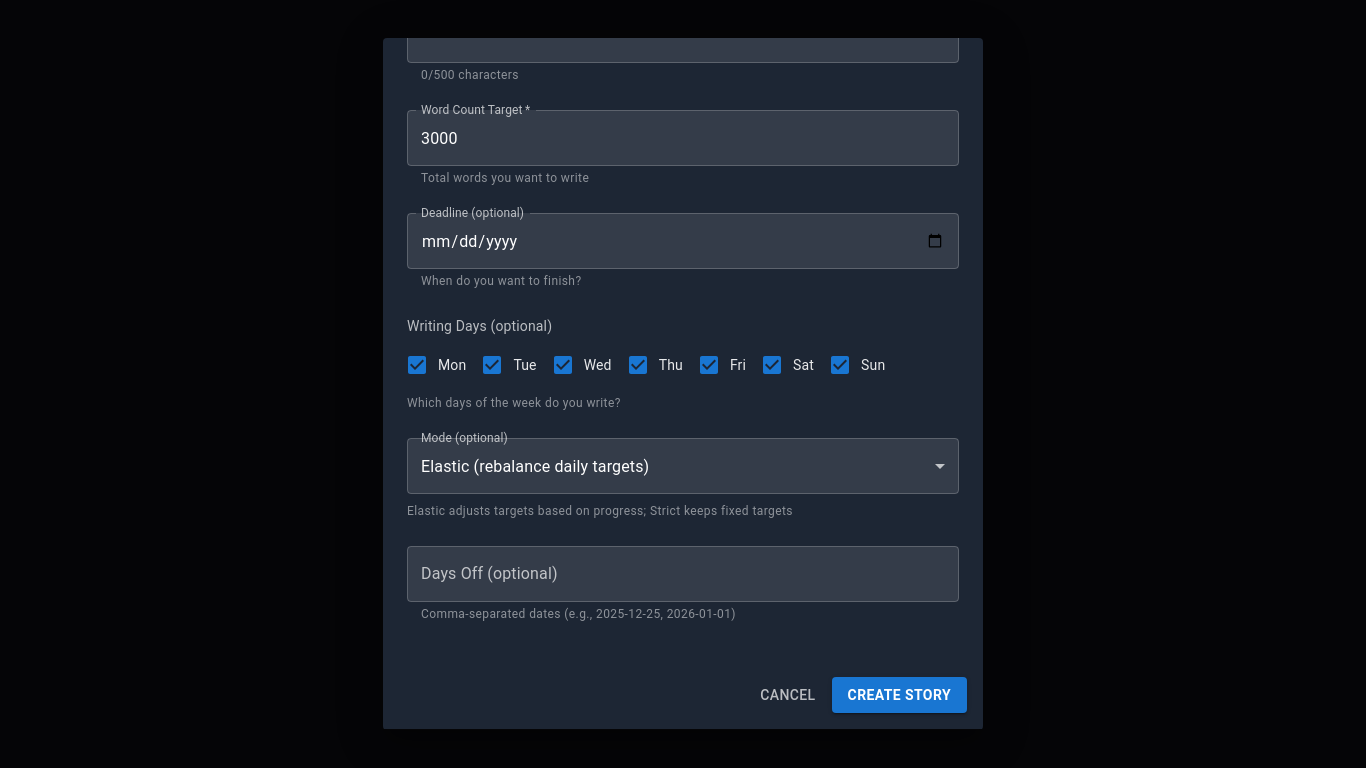
Test: NewStoryModal › allows selecting goal mode
(page scrolled)
Click the dropdown "Elastic (rebalance daily targets)" at (535, 466), box [421,456,649,476]
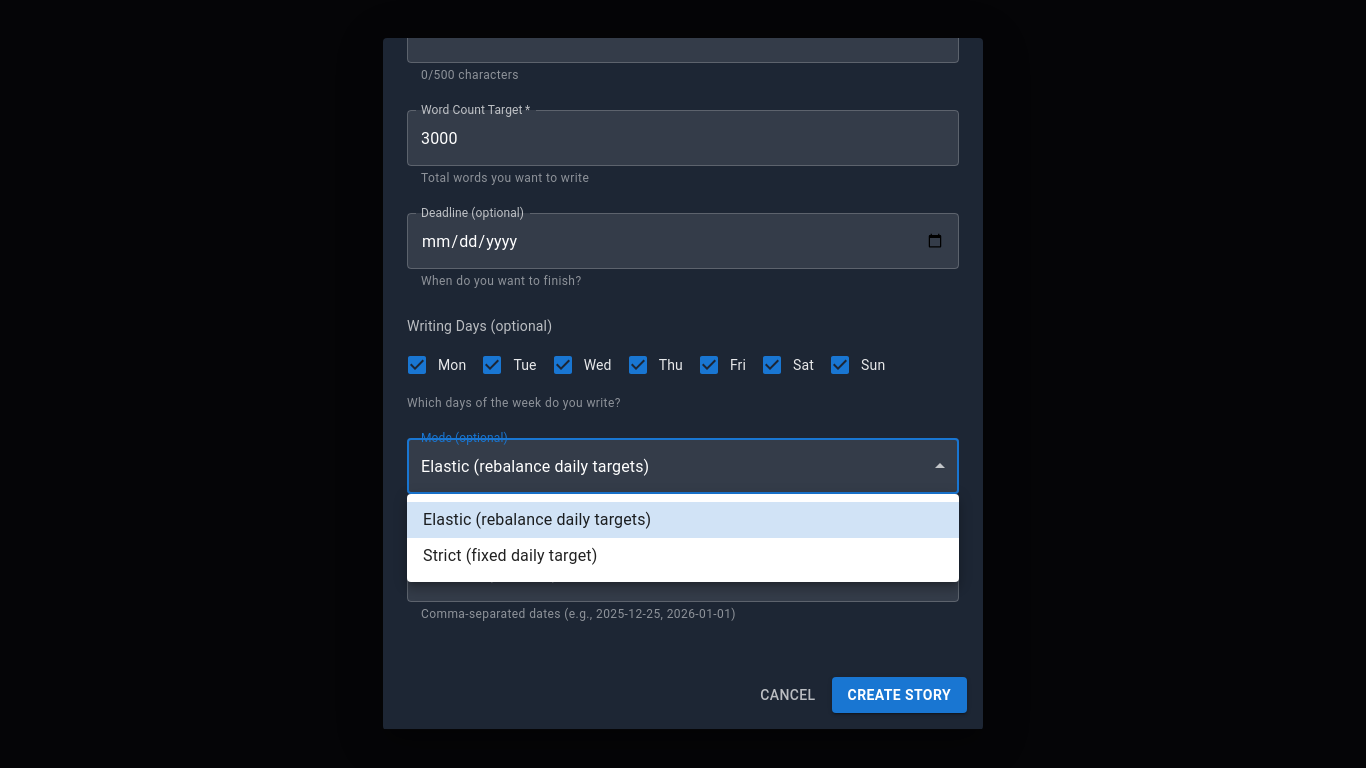
// Wait for the menu to open and find the strict option
Click the option "Strict (fixed daily target)" at (510, 556), box [423,546,597,565]
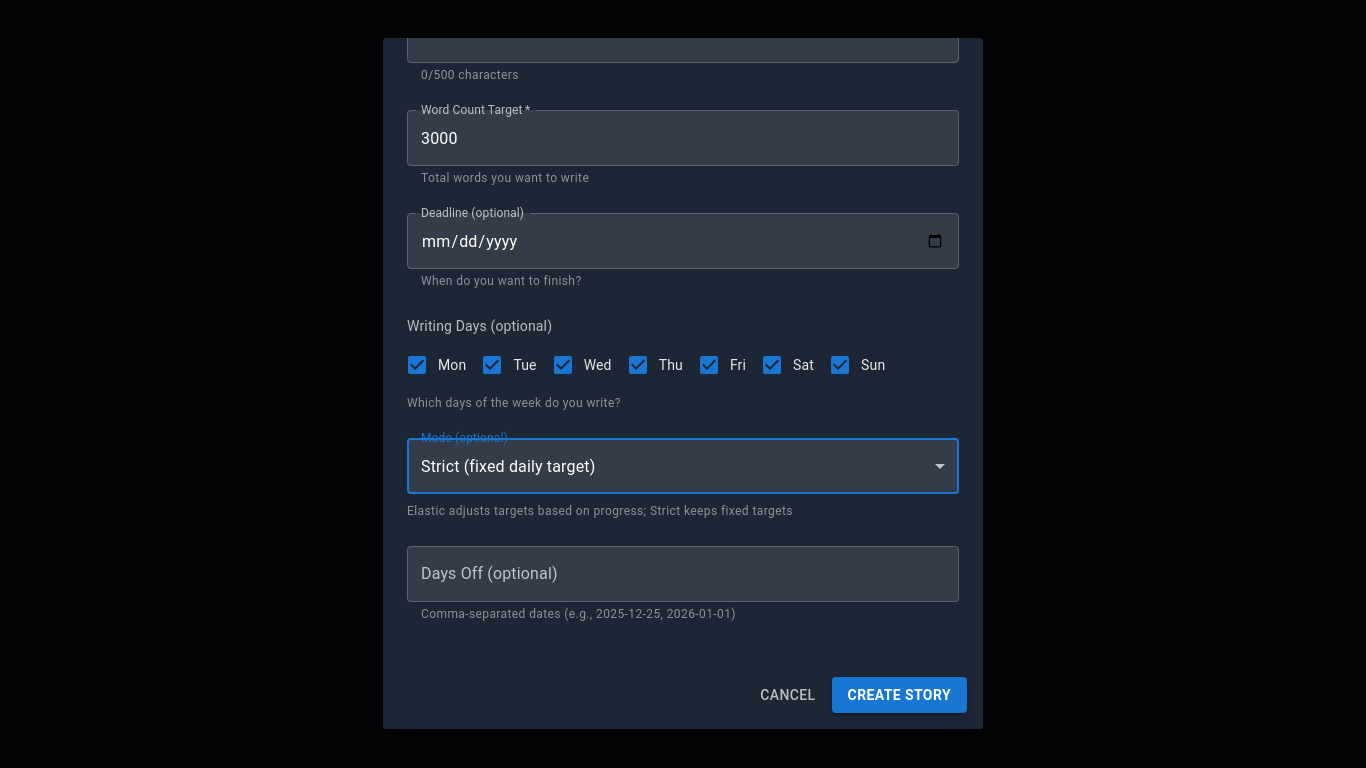
Check: the dropdown "Strict (fixed daily target)" is shown, box [421,456,595,476]
